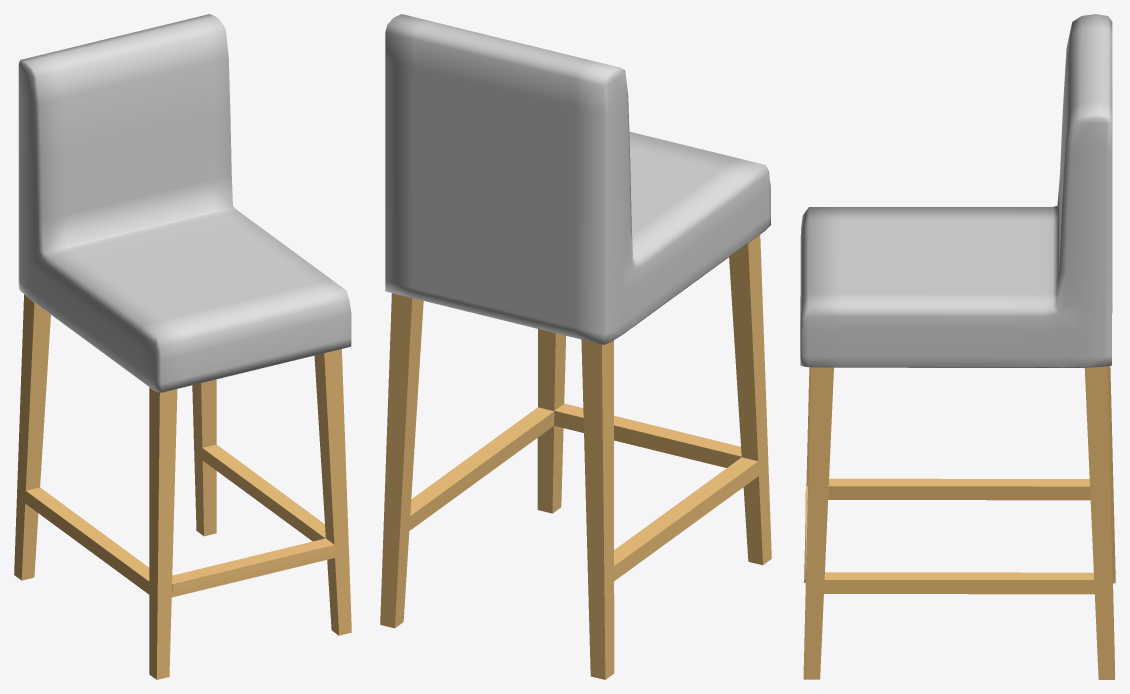
File: IKEA-Henriksdal_Bar_Stool-3D.DAE
3 views of the same model, side by side, from view 1: azimuth 30°, elevation 25°; view 2: azimuth 150°, elevation 25°; view 3: azimuth 270°, elevation 25° (orthographic). The views are drawn at different scales.
Visible parts, largest first — view 1: Box01; view 2: Box01; view 3: Box01.
Boxes of the visible parts, <box> form: Box01: <box>14,14,351,679</box>; Box01: <box>380,14,771,679</box>; Box01: <box>800,14,1115,679</box>.
Size of the model in its own units: 402 by 1019 by 516.
